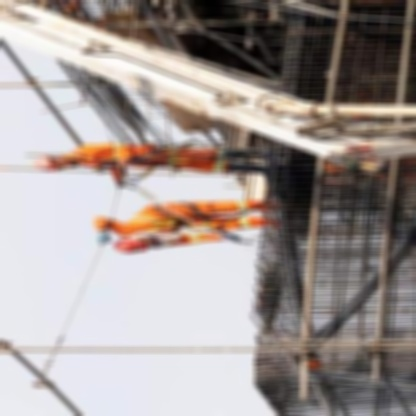red: (107, 234, 149, 254), (28, 154, 62, 172)
vest: (108, 204, 252, 233), (59, 139, 162, 172)
